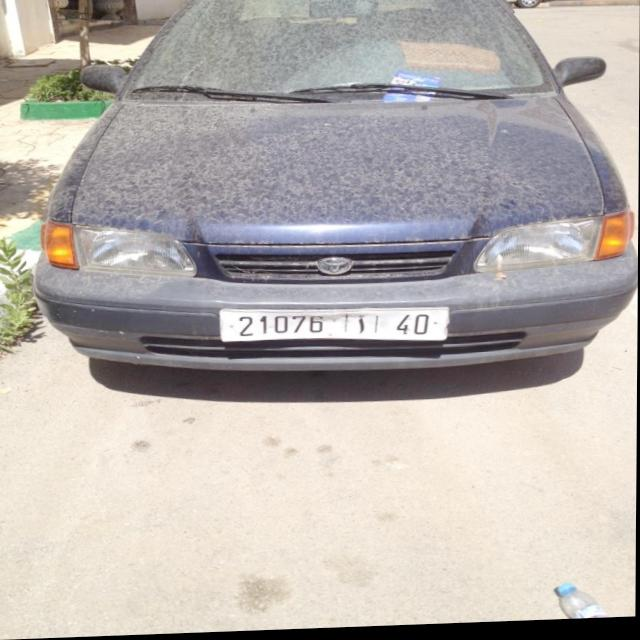License-Plate: (220, 311, 450, 344)
